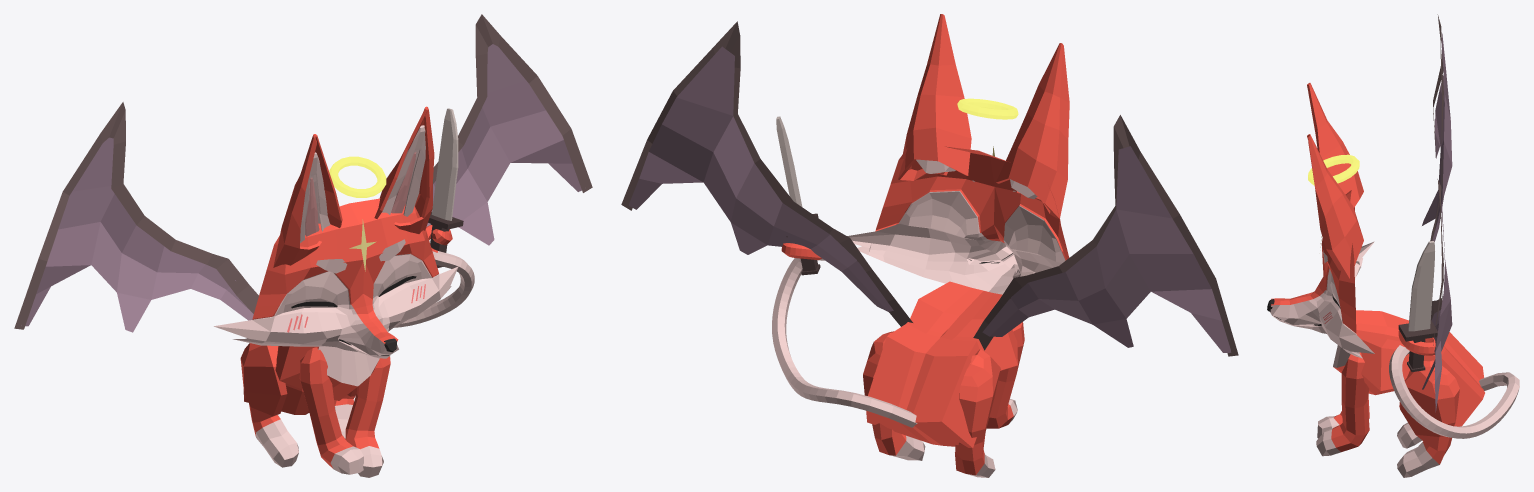
The model's file is niklasbossgats.glb.
3 renders of one model, left to right at view 1: azimuth 30°, elevation 25°; view 2: azimuth 150°, elevation 25°; view 3: azimuth 270°, elevation 25°, orthographic. The views are drawn at different scales.
Parts seen in each view (by area): view 1: Wing 1, Kopf, Wing 2, Ohr, Circle.002, Circle, Körper, Circle.001, Knife, ohr innen 1, Tail, Halo (+2 smaller); view 2: Wing 1, Kopf, Körper, Ohr, Wing 2, Circle.002, Tail, Circle, Knife, Halo; view 3: Körper, Ohr, Kopf, Circle.002, Tail, Wing 1, Circle.001, Knife, Wing 2, Halo, Circle.
Boxes of the visible parts, bbox=[...] form: Wing 1: bbox=[21, 44, 585, 332]; Kopf: bbox=[214, 198, 458, 358]; Wing 2: bbox=[14, 14, 592, 329]; Ohr: bbox=[273, 106, 434, 267]; Circle.002: bbox=[240, 343, 357, 467]; Circle: bbox=[299, 347, 363, 474]; Körper: bbox=[243, 346, 379, 414]; Circle.001: bbox=[345, 356, 390, 477]; Knife: bbox=[428, 108, 463, 267]; ohr innen 1: bbox=[300, 125, 425, 242]; Tail: bbox=[394, 225, 474, 327]; Halo: bbox=[329, 156, 386, 197]; Wing 1: bbox=[629, 46, 1231, 352]; Kopf: bbox=[847, 146, 1069, 294]; Körper: bbox=[866, 281, 1017, 448]; Ohr: bbox=[898, 14, 1069, 218]; Wing 2: bbox=[621, 21, 1238, 356]; Circle.002: bbox=[863, 331, 1000, 477]; Tail: bbox=[772, 243, 917, 427]; Circle: bbox=[986, 322, 1024, 428]; Knife: bbox=[776, 116, 820, 275]; Halo: bbox=[957, 98, 1018, 119]; Körper: bbox=[1333, 310, 1484, 426]; Ohr: bbox=[1307, 83, 1363, 278]; Kopf: bbox=[1270, 190, 1374, 358]; Circle.002: bbox=[1397, 360, 1459, 477]; Tail: bbox=[1389, 330, 1519, 438]; Wing 1: bbox=[1422, 33, 1452, 412]; Circle.001: bbox=[1316, 352, 1369, 456]; Knife: bbox=[1398, 241, 1437, 371]; Wing 2: bbox=[1430, 14, 1443, 371]; Halo: bbox=[1308, 154, 1359, 185]; Circle: bbox=[1317, 394, 1369, 438].
Size of the model in its own units: 9.39 by 6.01 by 3.78.
